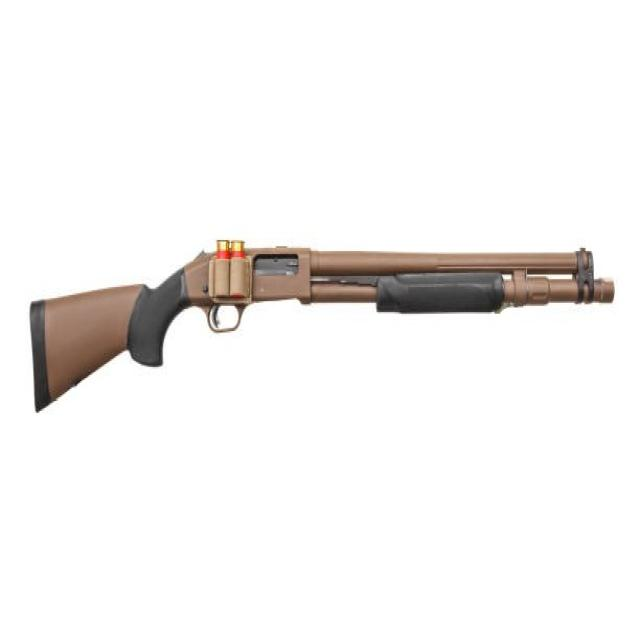rifle: (26, 228, 624, 425)
